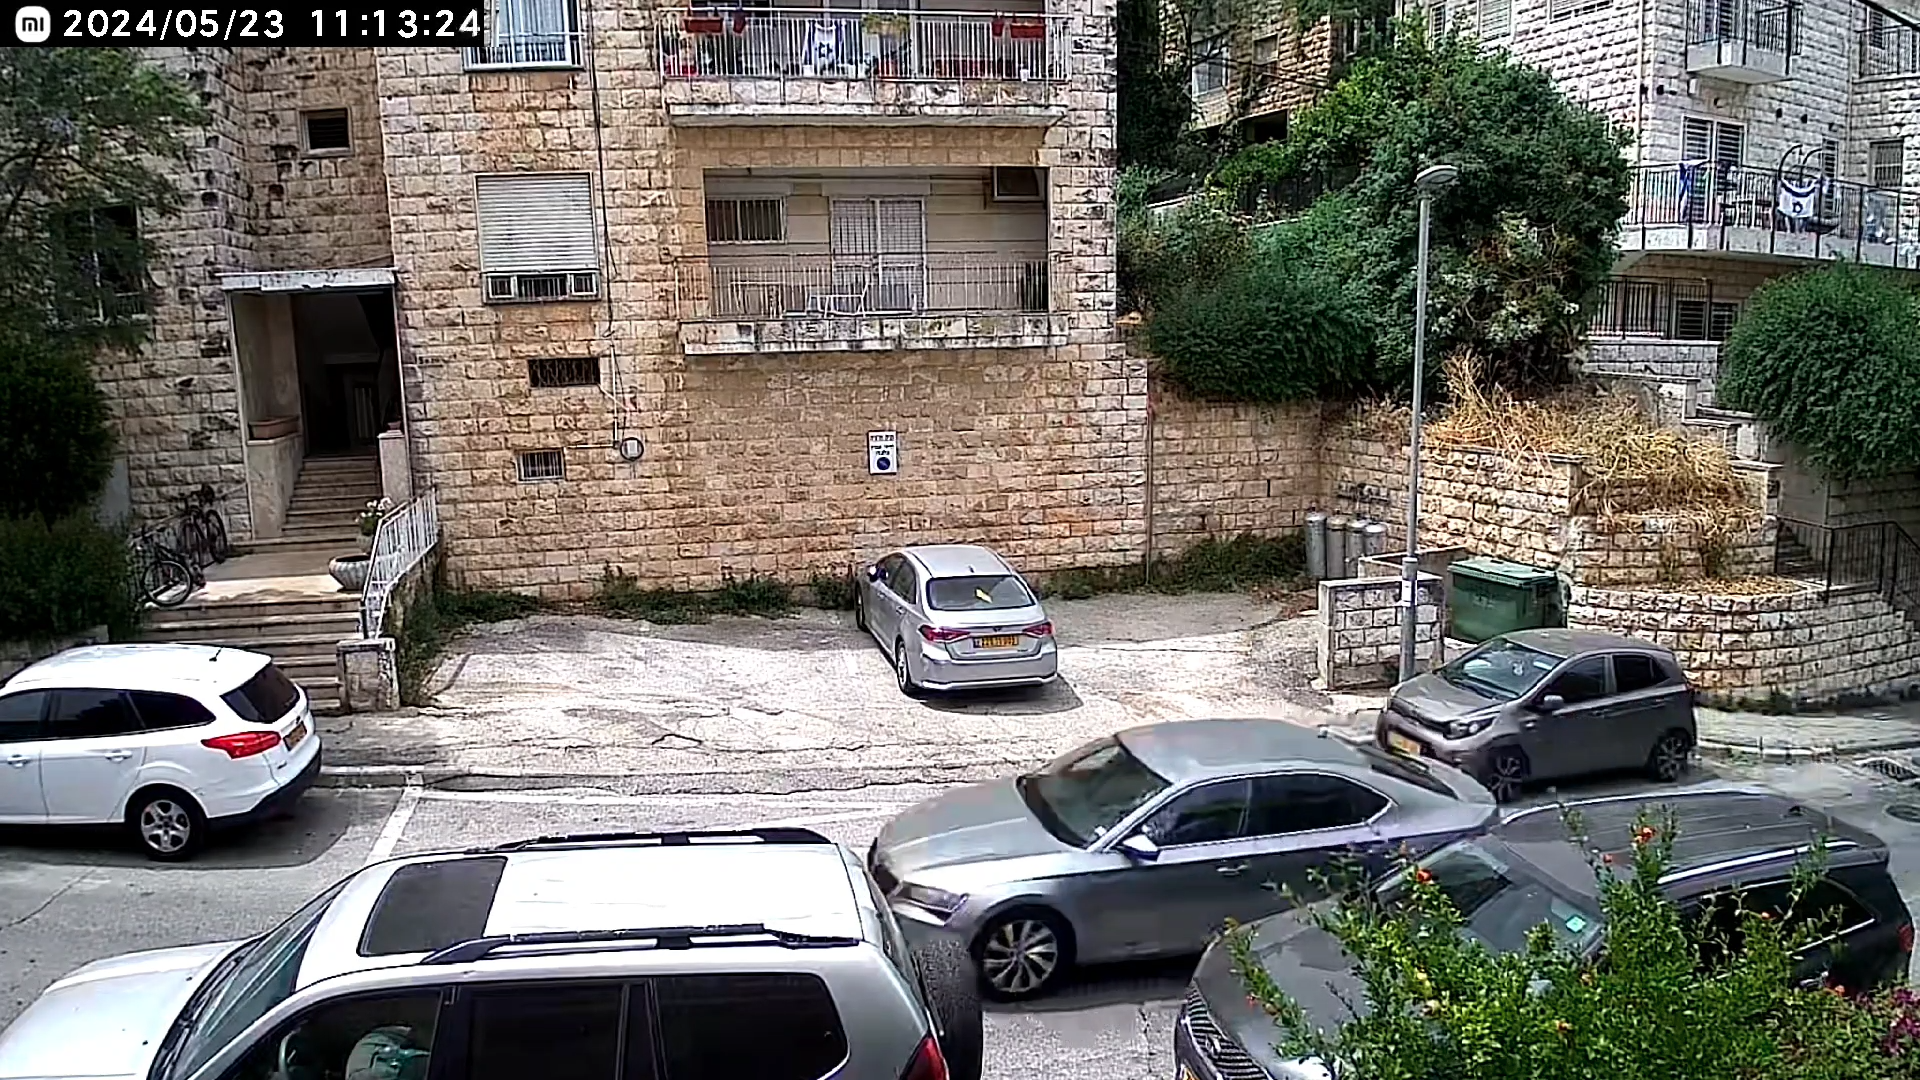moving car: (868, 717, 1495, 945)
